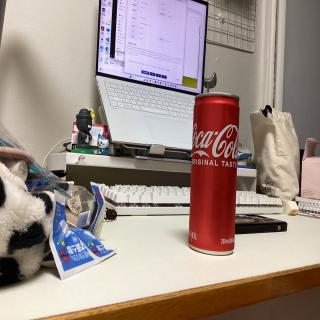cocacola: (185, 85, 244, 262)
